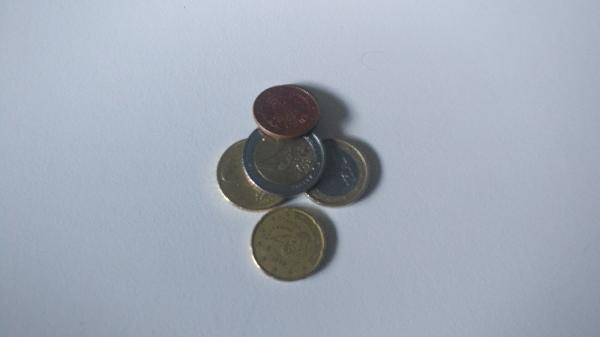Fifty Cent: (214, 138, 290, 207)
Five Cent: (251, 82, 323, 137)
One Euro: (306, 139, 369, 207)
Twenty Cent: (250, 208, 326, 280)
Two Euro: (246, 123, 324, 197)
